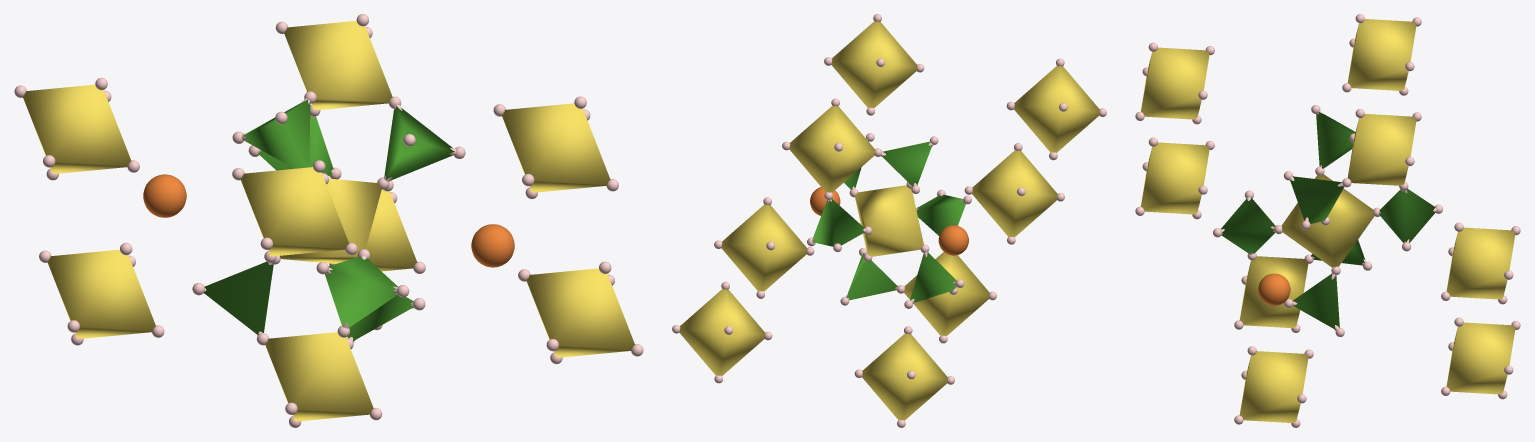
The model's file is RbTa(SO4)3-triclinic-gnomed5318fab9f-p2.glb.
3 views of the same model, side by side, from view 1: azimuth 30°, elevation 25°; view 2: azimuth 150°, elevation 25°; view 3: azimuth 270°, elevation 25° (orthographic). The views are drawn at different scales.
Visible parts, largest first — view 1: RbTa(SO4)3-P-1-gnomed5318fab9f-p2; view 2: RbTa(SO4)3-P-1-gnomed5318fab9f-p2; view 3: RbTa(SO4)3-P-1-gnomed5318fab9f-p2.
Part boxes in pixels (x1,y1,x2,y2): RbTa(SO4)3-P-1-gnomed5318fab9f-p2: (14,14,643,427); RbTa(SO4)3-P-1-gnomed5318fab9f-p2: (672,14,1106,427); RbTa(SO4)3-P-1-gnomed5318fab9f-p2: (1135,14,1520,427).
Size of the model in its own units: 18.21 by 11.51 by 15.24.
